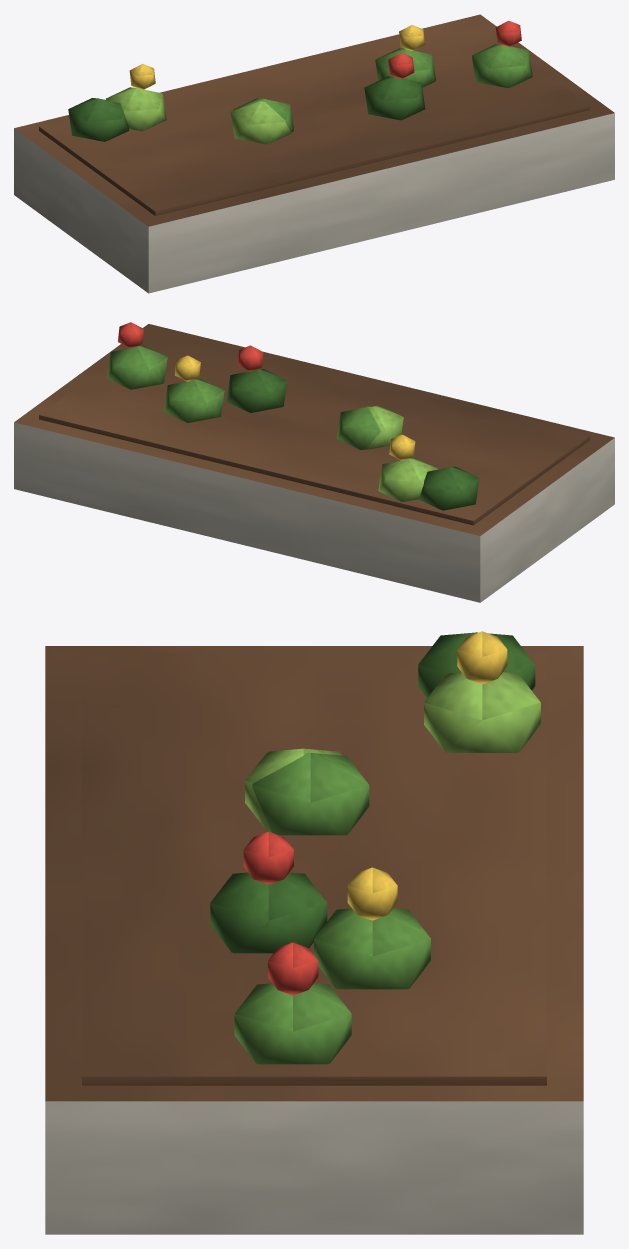
The model's file is flowerbed_01.glb.
3 views of the same model, one above another, from view 1: azimuth 30°, elevation 25°; view 2: azimuth 150°, elevation 25°; view 3: azimuth 270°, elevation 25° (orthographic). The views are drawn at different scales.
Parts seen in each view (by area): view 1: flowerbed_01; view 2: flowerbed_01; view 3: flowerbed_01.
Boxes of the visible parts, x1,y1,x2,y2 form: flowerbed_01: [14, 14, 614, 293]; flowerbed_01: [14, 322, 614, 602]; flowerbed_01: [45, 631, 583, 1234].
Size of the model in its own units: 2.19 by 0.56 by 1.1.
1 material, 1 textured.
